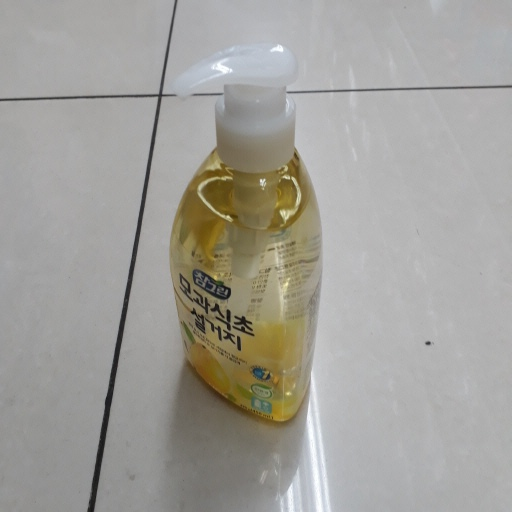Plastic_3: (170, 47, 322, 423)
